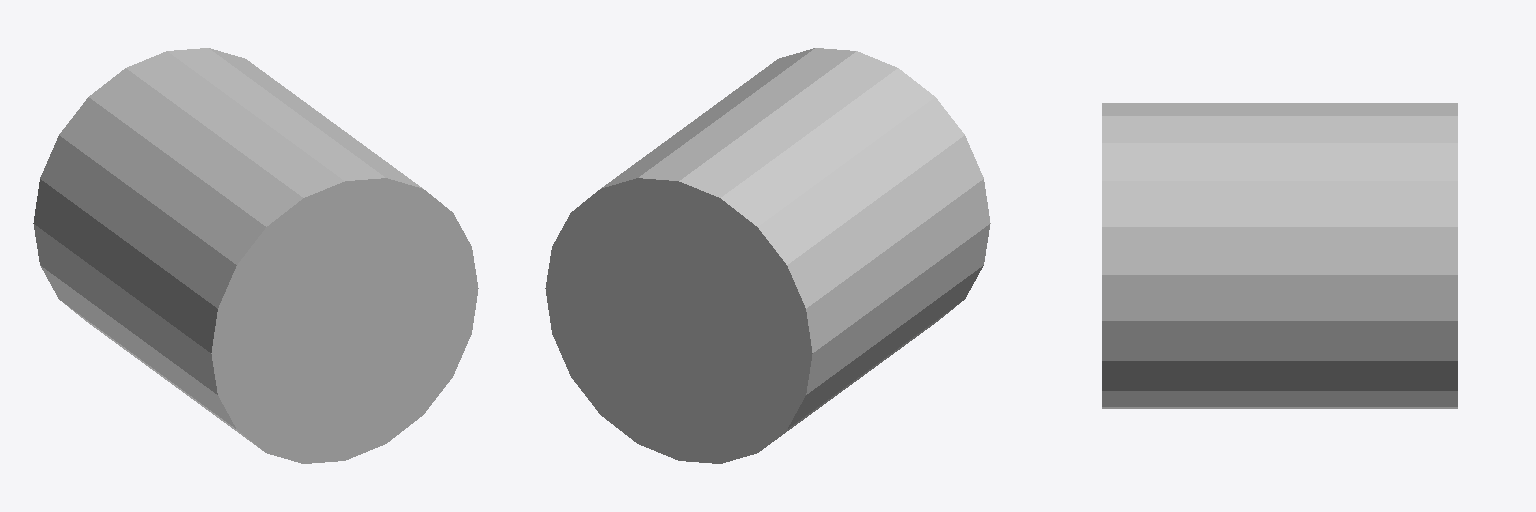
File: Corrugador_I.obj
3 renders of one model, left to right at view 1: azimuth 30°, elevation 25°; view 2: azimuth 150°, elevation 25°; view 3: azimuth 270°, elevation 25°, orthographic.
Parts seen in each view (by area): view 1: pCylinder11; view 2: pCylinder11; view 3: pCylinder11.
Part boxes in pixels (bbox=[...]): pCylinder11: bbox=[33, 48, 478, 463]; pCylinder11: bbox=[545, 48, 990, 463]; pCylinder11: bbox=[1102, 103, 1457, 408].
Size of the model in its own units: 0.0274 by 0.0274 by 0.0316.